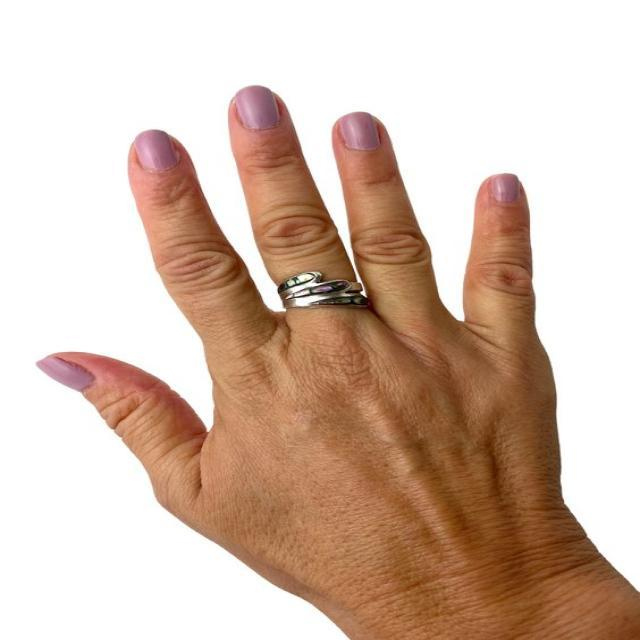Fingernail: (37, 356, 92, 392), (237, 86, 280, 130), (135, 130, 179, 173), (340, 112, 381, 151), (489, 172, 519, 207)
